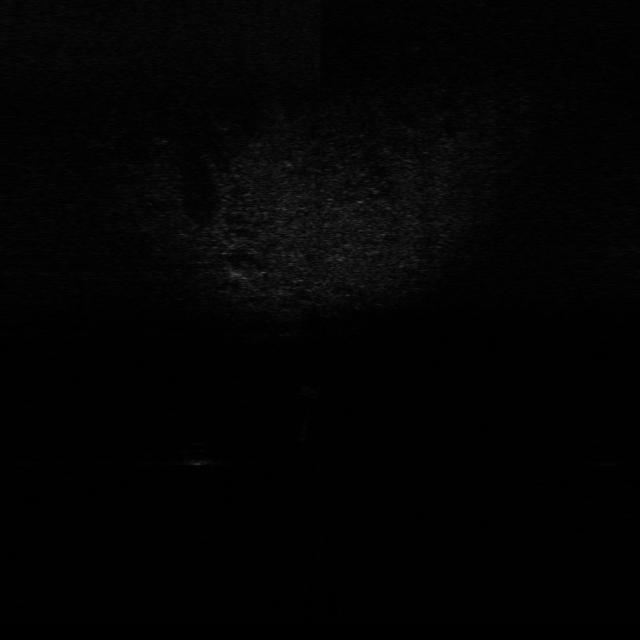ball: (180, 440, 220, 468)
cube: (299, 382, 332, 402)
